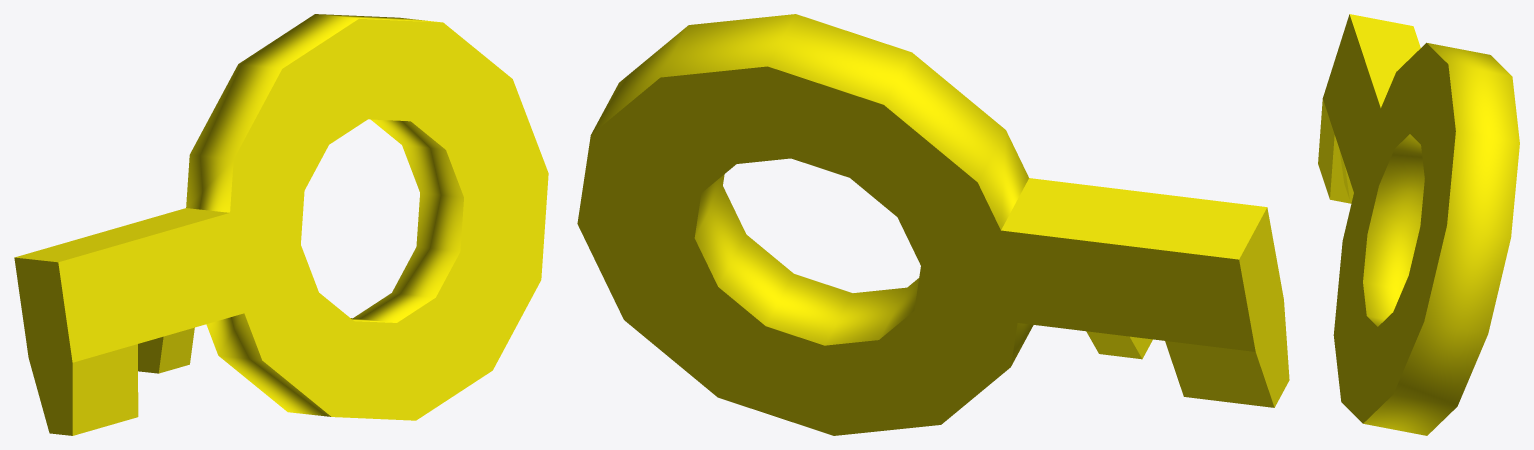
The model's file is key.fbx.
3 views of the same model, side by side, from view 1: azimuth 30°, elevation 25°; view 2: azimuth 150°, elevation 25°; view 3: azimuth 270°, elevation 25° (orthographic). The views are drawn at different scales.
Visible parts, largest first — view 1: node_id4; view 2: node_id4; view 3: node_id4.
Boxes of the visible parts, x1,y1,x2,y2 form: node_id4: (14,14,548,435); node_id4: (577,14,1289,435); node_id4: (1318,14,1519,435).
Size of the model in its own units: 0.515 by 0.3444 by 0.1778.
1 material, 1 textured.
